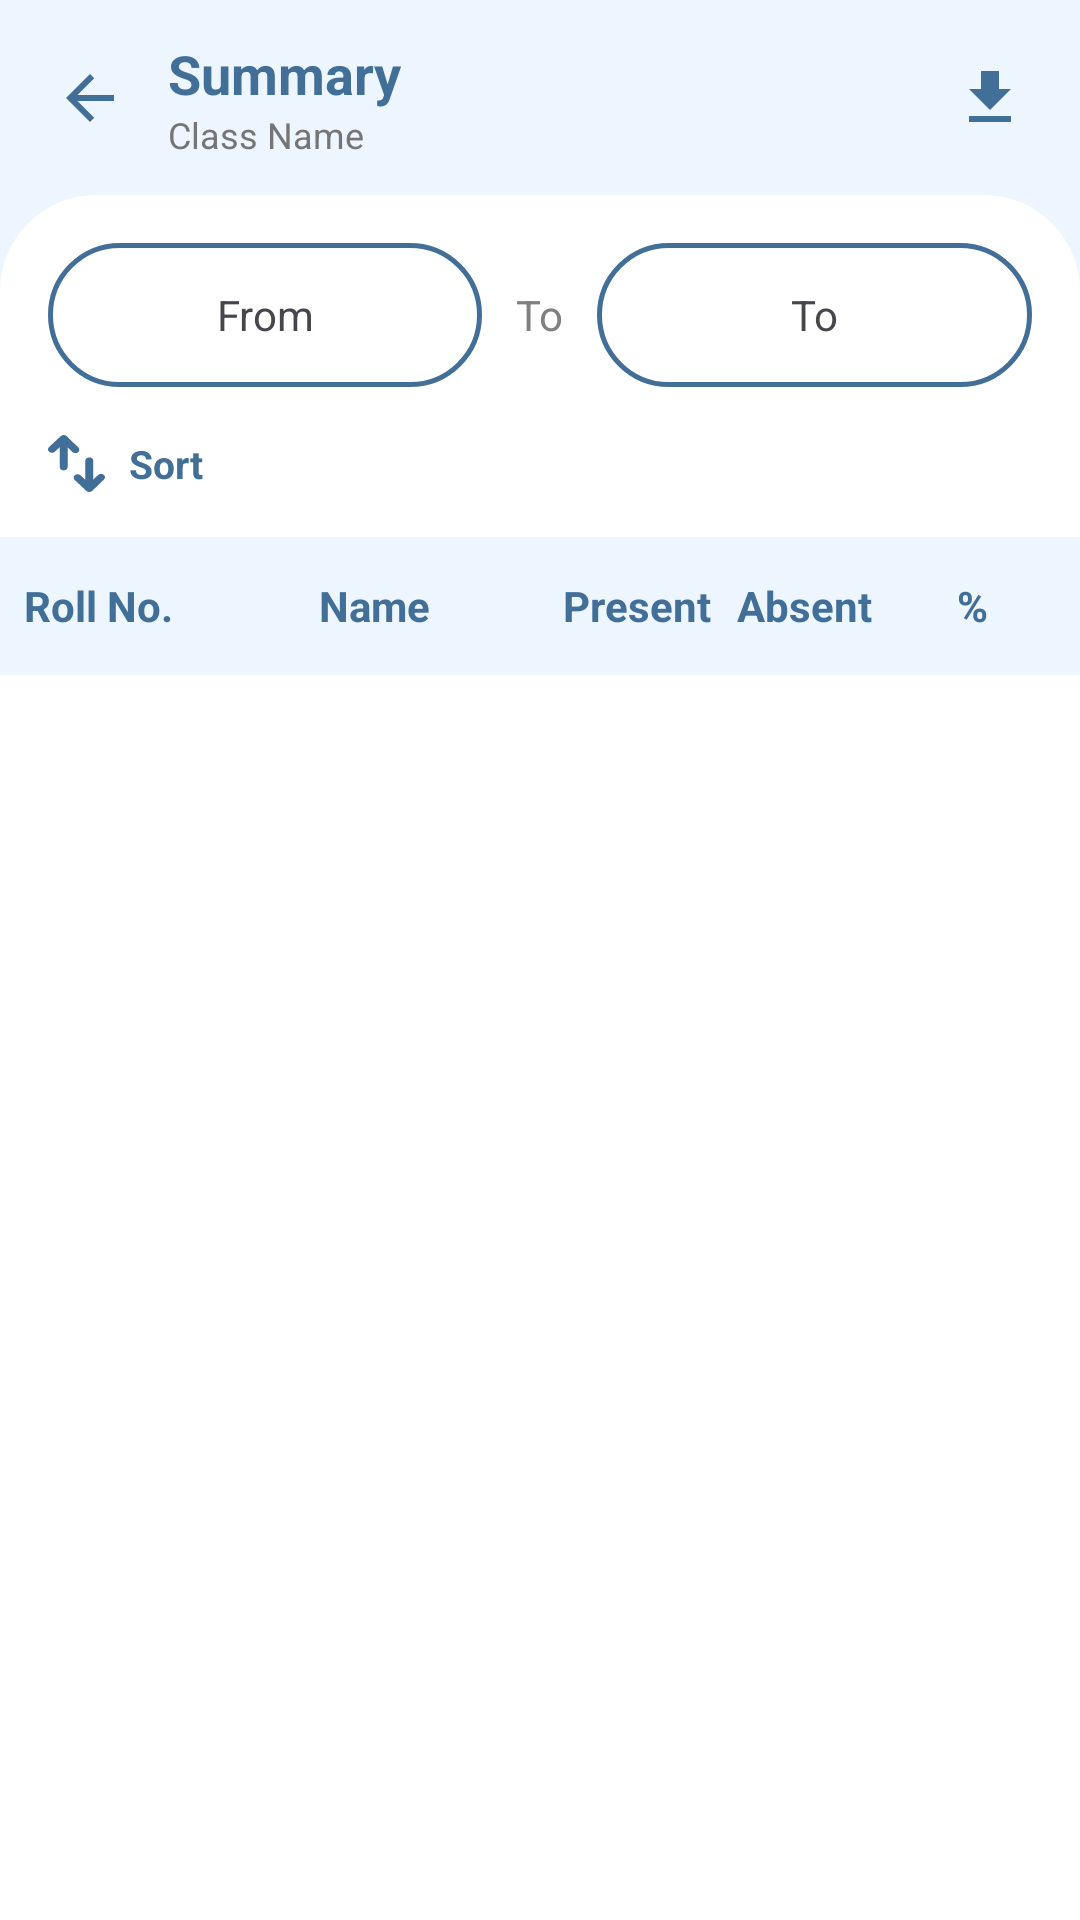

Icon click points for this 1080px x 1920px phone screenshot, format point (x, y):
download: point (990, 96)
